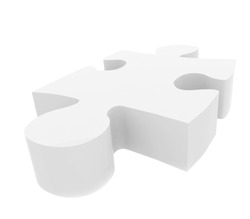puzzle piece: (18, 33, 243, 194)
